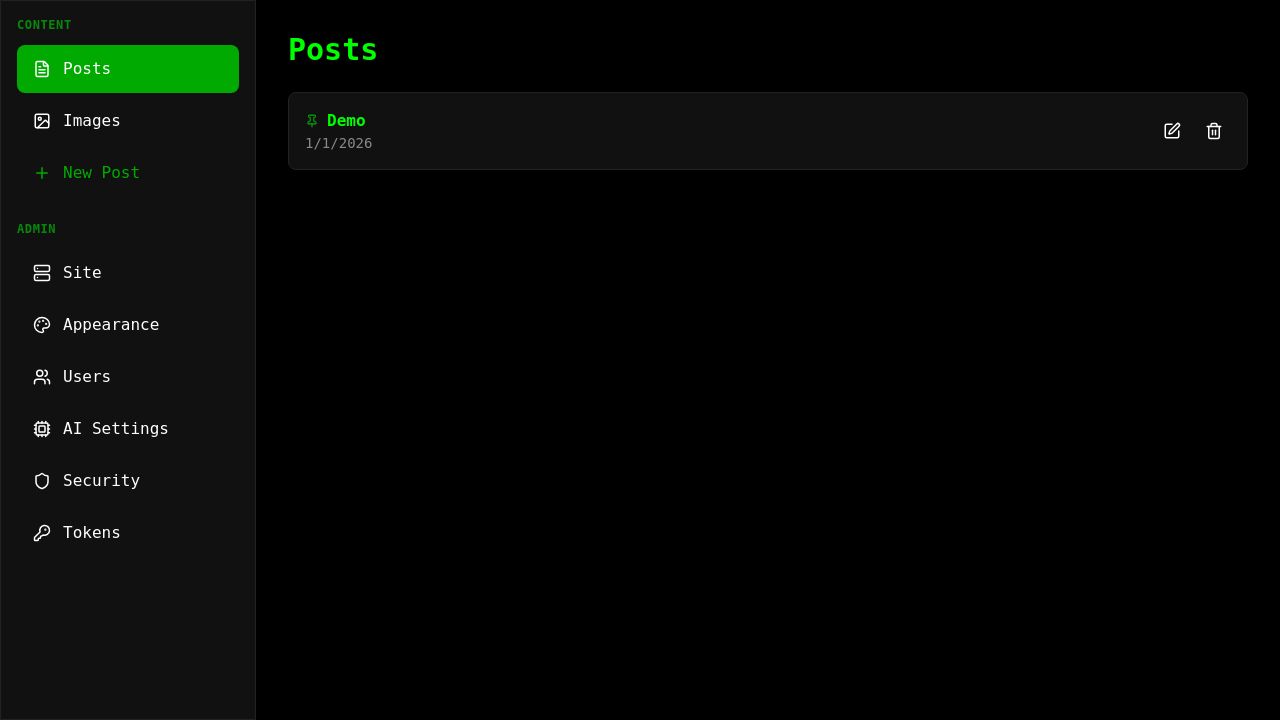
it: Admin full coverage › upload failure alerts
Click the button "Images" at [128, 121], box [17,97,239,145]
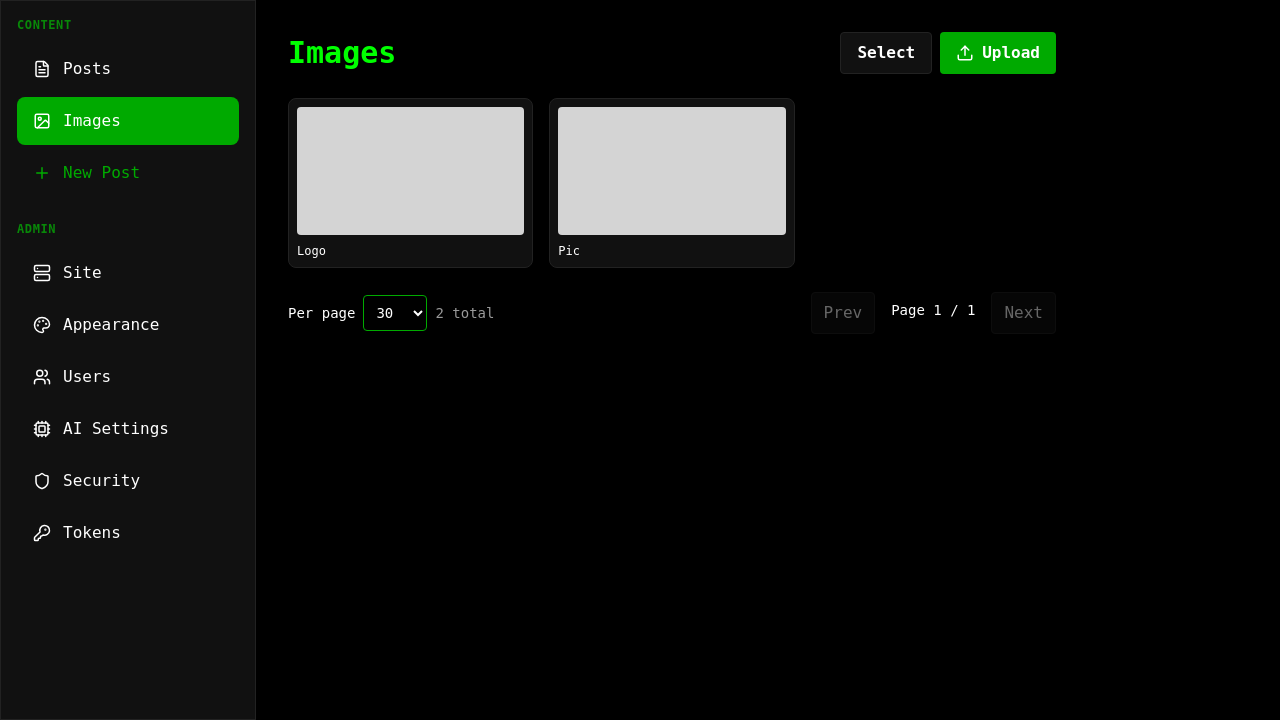
Check: the file field labelled "Upload" is shown, box [940,32,1056,74]
